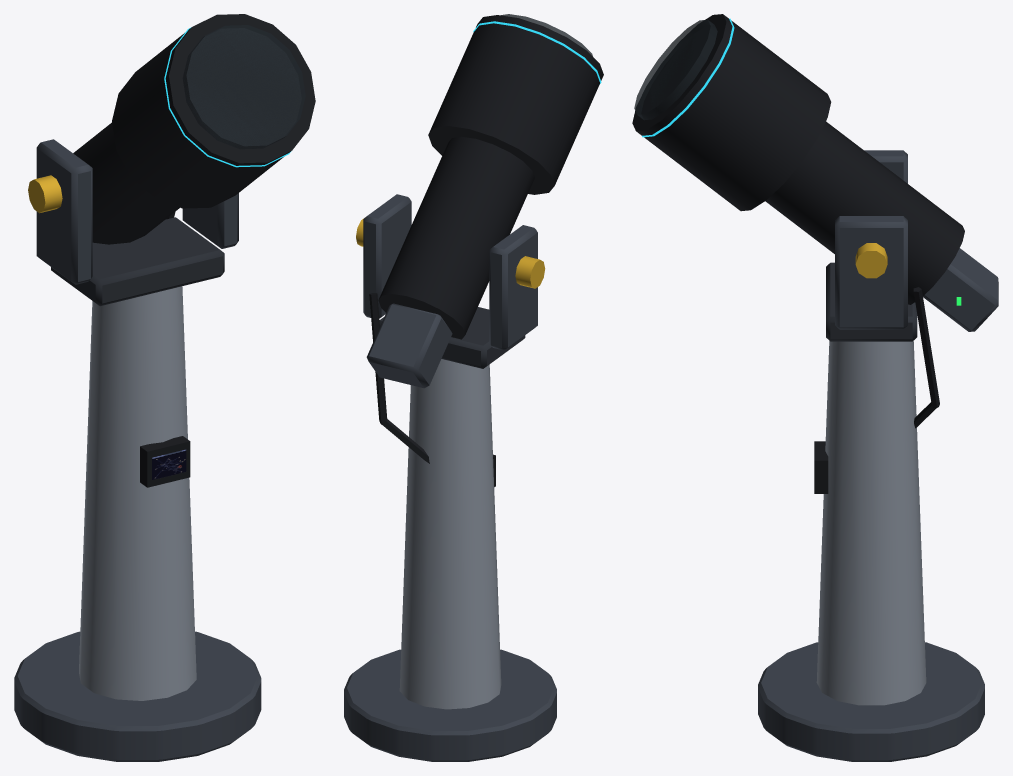
Rendered from telescope_star_tracker_scope.glb.
3 views of the same model, side by side, from view 1: azimuth 30°, elevation 25°; view 2: azimuth 150°, elevation 25°; view 3: azimuth 270°, elevation 25° (orthographic). The views are drawn at different scales.
Parts seen in each view (by area): view 1: telescope_star_tracker_scope; view 2: telescope_star_tracker_scope; view 3: telescope_star_tracker_scope.
Boxes of the visible parts, x1,y1,x2,y2 form: telescope_star_tracker_scope: (14, 14, 315, 761); telescope_star_tracker_scope: (344, 14, 603, 761); telescope_star_tracker_scope: (632, 14, 998, 761).
Size of the model in its own units: 0.4924 by 1.68 by 0.8019.
9 materials, 1 textured.
